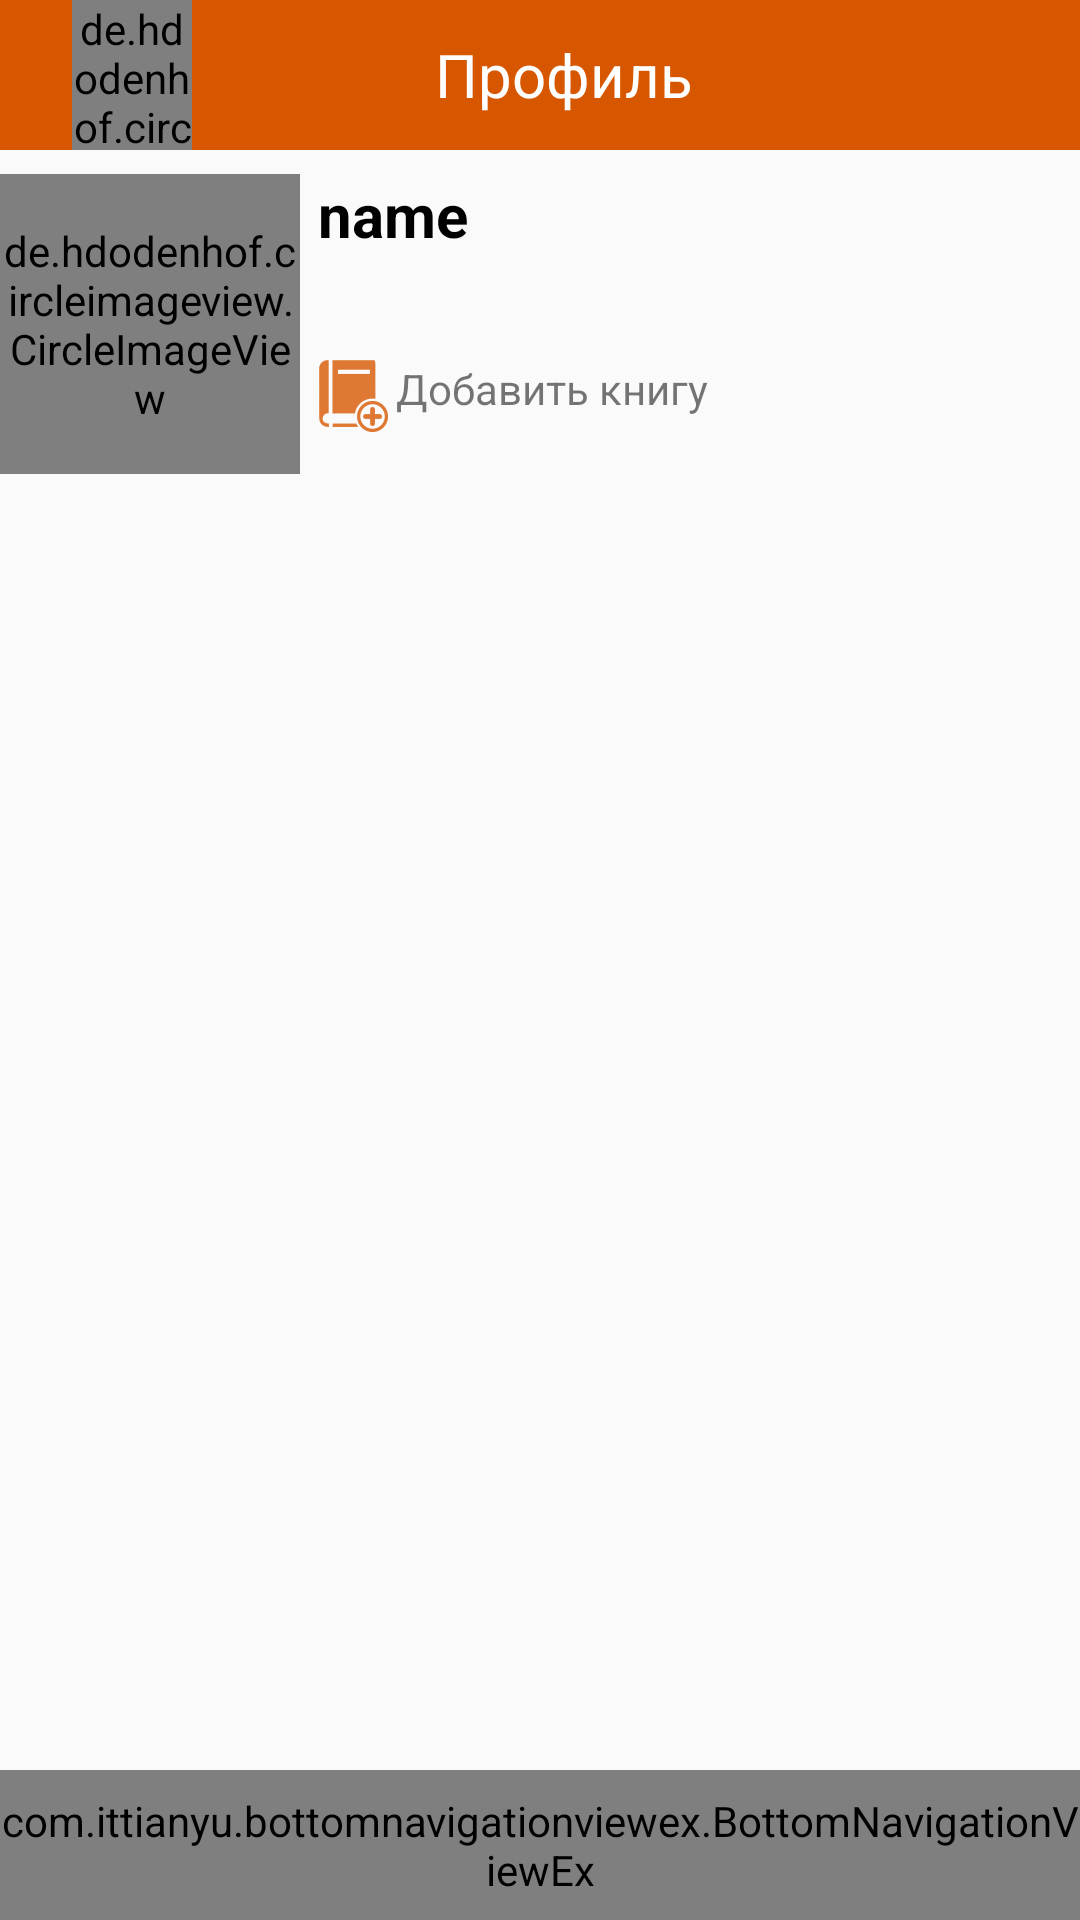

Point at icon controls on the screen. Image size 1080x1920, points as (x=x, y=y).
create book: (x=353, y=396)
